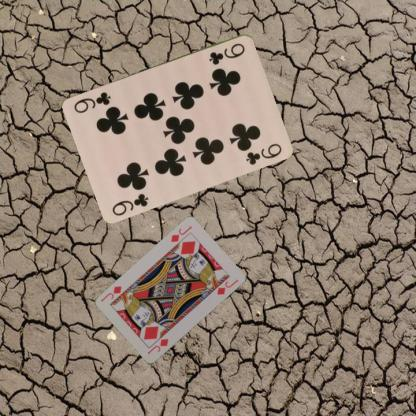9c: (110, 190, 150, 217), (206, 40, 246, 66)
Jd: (168, 223, 193, 244), (144, 336, 170, 356)
